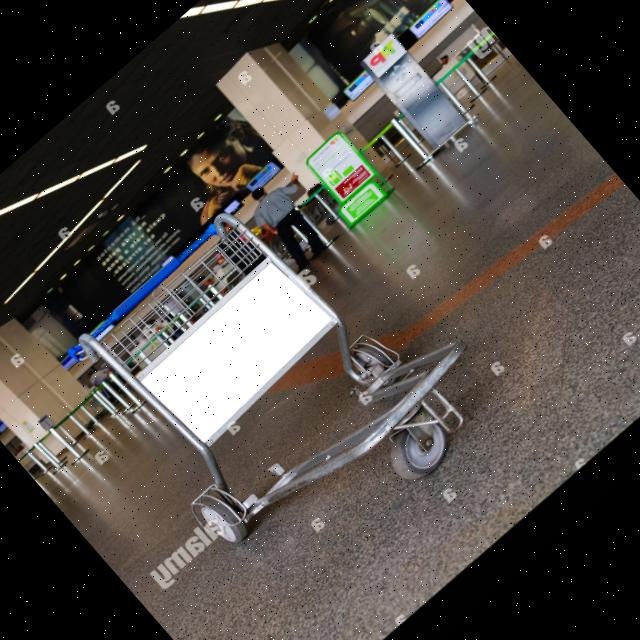Person: (232, 160, 348, 280)
